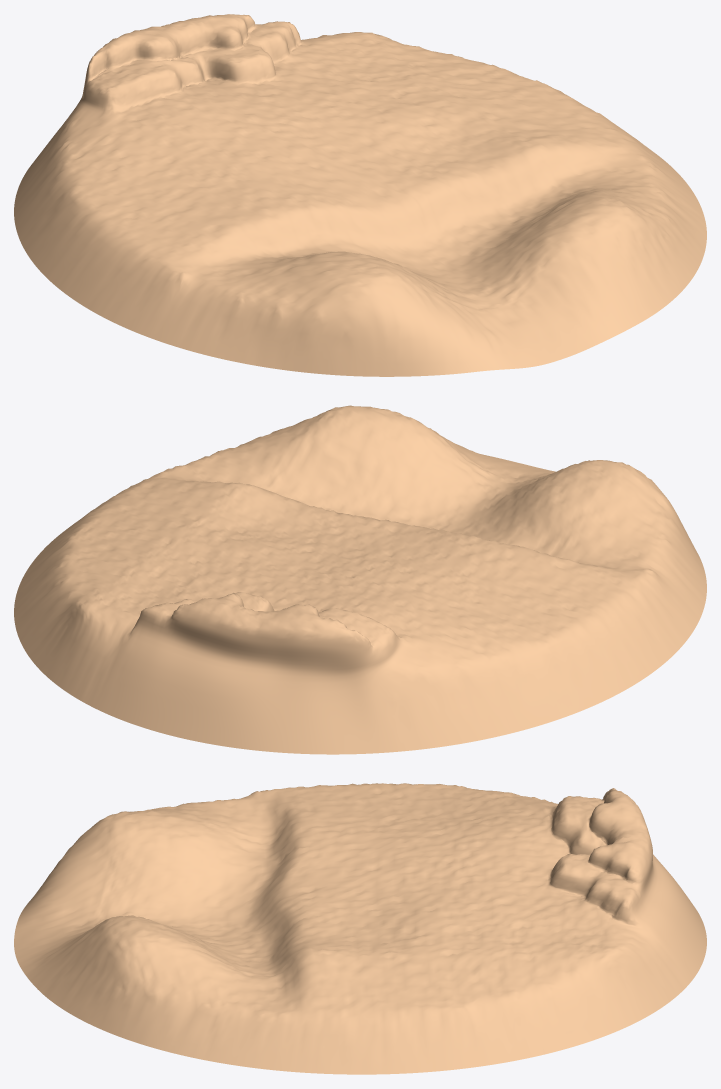
The model's file is ground_circle.fbx.
The picture shows the model from 3 angles, top to bottom: view 1: azimuth 30°, elevation 25°; view 2: azimuth 150°, elevation 25°; view 3: azimuth 270°, elevation 25°; orthographic projection. The views are drawn at different scales.
Parts seen in each view (by area): view 1: bottom_circle; view 2: bottom_circle; view 3: bottom_circle.
Boxes of the visible parts, x1=… form: bottom_circle: x1=14, y1=14, x2=706, y2=376; bottom_circle: x1=14, y1=405, x2=706, y2=754; bottom_circle: x1=14, y1=783, x2=706, y2=1074.
Bounding box in the file's own units: 34360 × 6352 × 37711.
